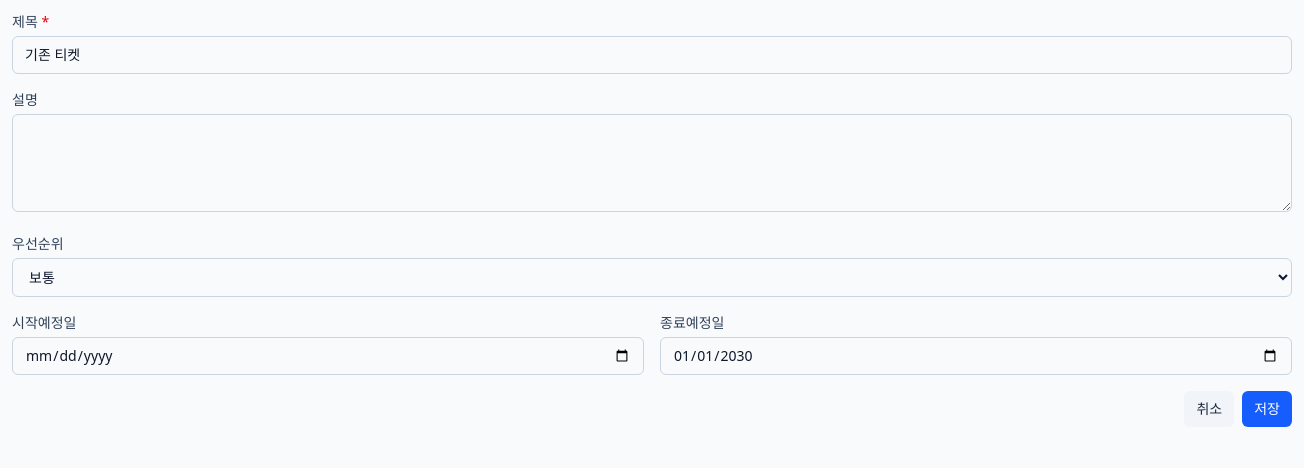
Test case: TicketForm (US-001, US-002) › TC-COMP-004g: 종료예정일을 과거로 새로 선택하면 거부한다
Type "2020-01-01" into the date field labelled "종료예정일" at (976, 356), box [660,337,1292,375]
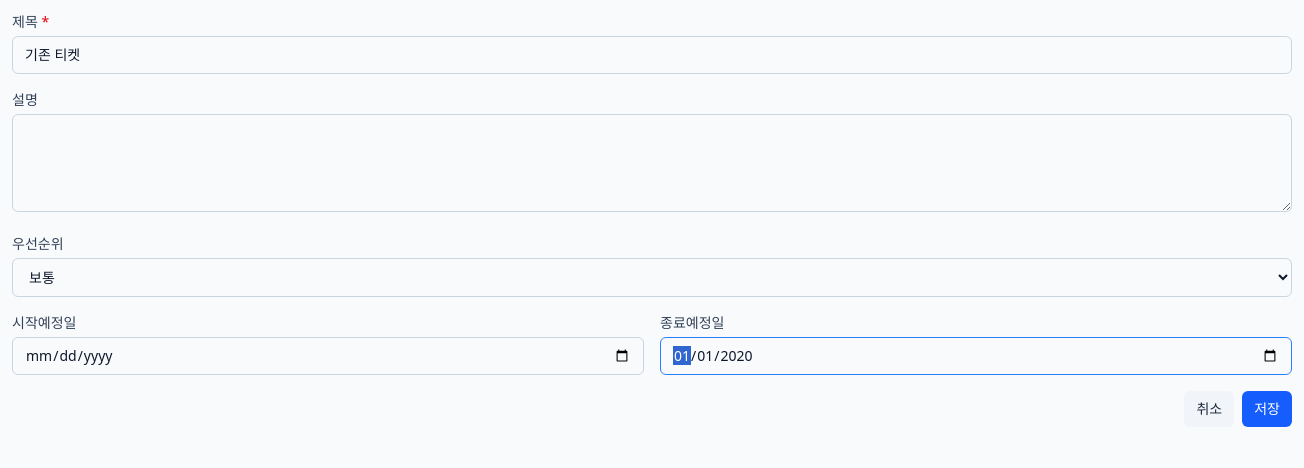
Click the button "저장" at (1267, 409), box [1242,391,1292,427]
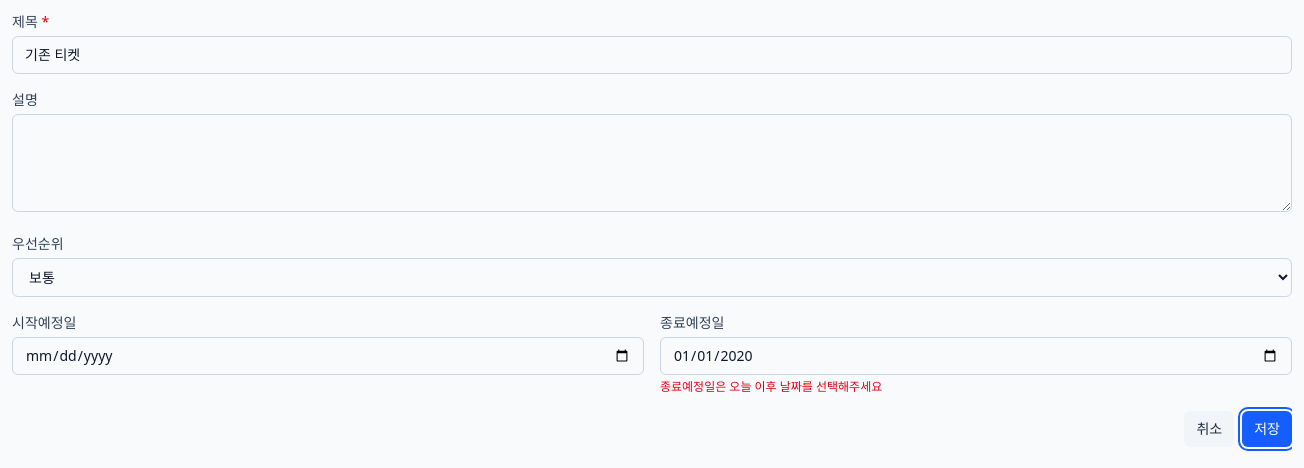
Expected: the message reads "종료예정일은 오늘 이후 날짜를 선택해주세요", [660,378,882,395]
